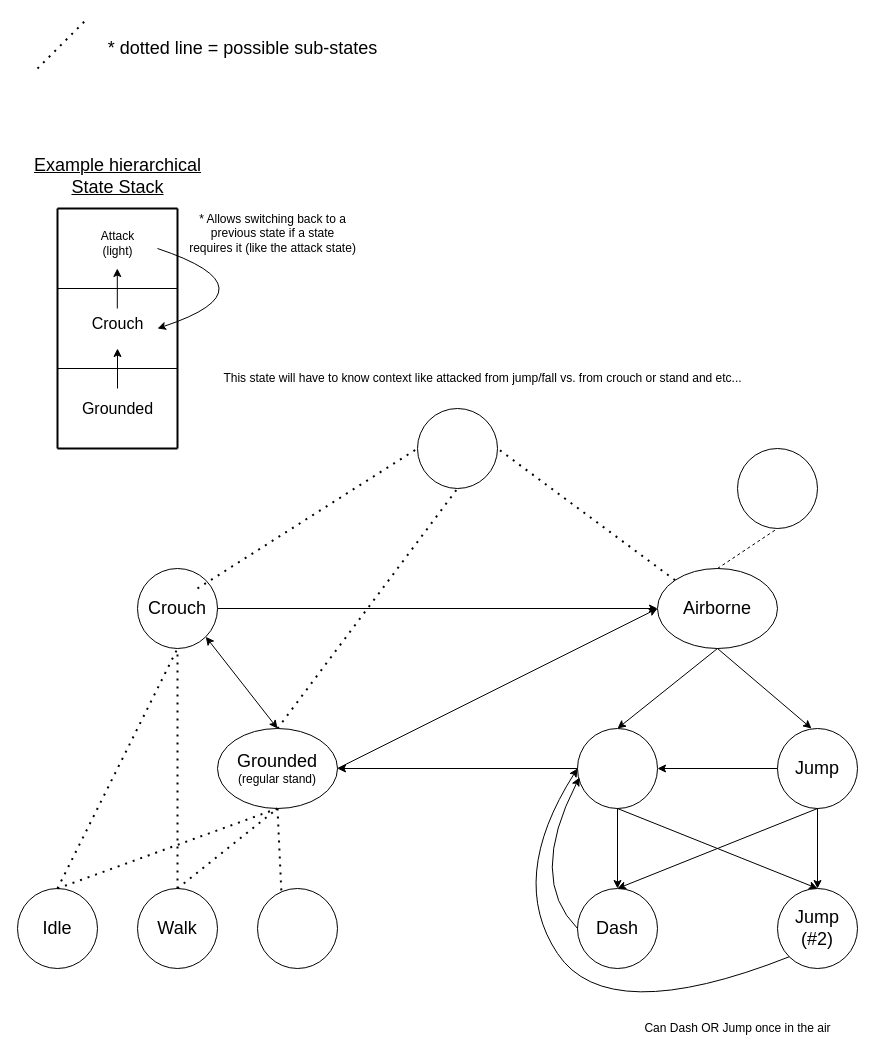
The diagram is 875 pixels wide and 1060 high, and some of its shapes have lost their labels. Each missing label, with the centre of its shape:
"Attack" belongs at pixel 457 448.
"Fall" belongs at pixel 617 768.
"Flying?" belongs at pixel 777 488.
"Run" belongs at pixel 297 928.
